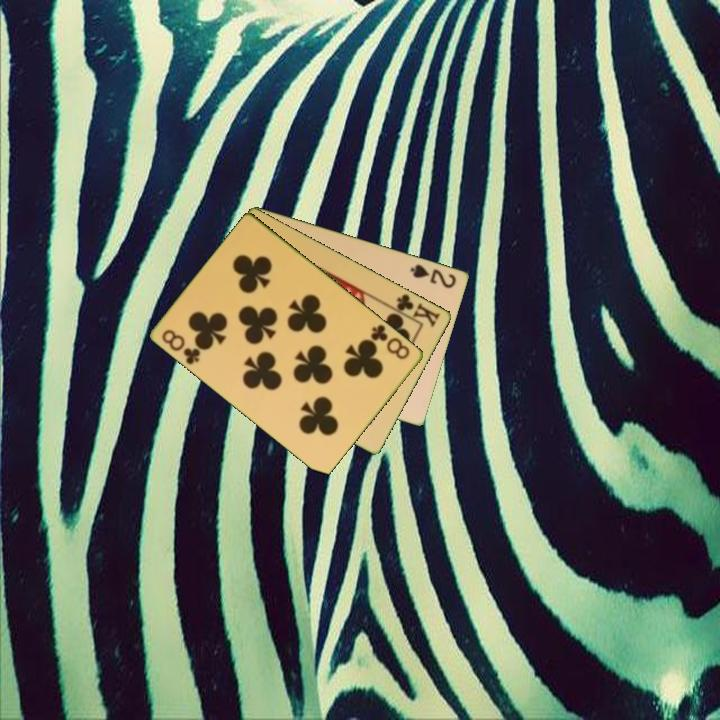2s: (407, 260, 459, 291)
8c: (159, 326, 204, 368), (367, 321, 413, 362)
Kc: (387, 290, 443, 330)
